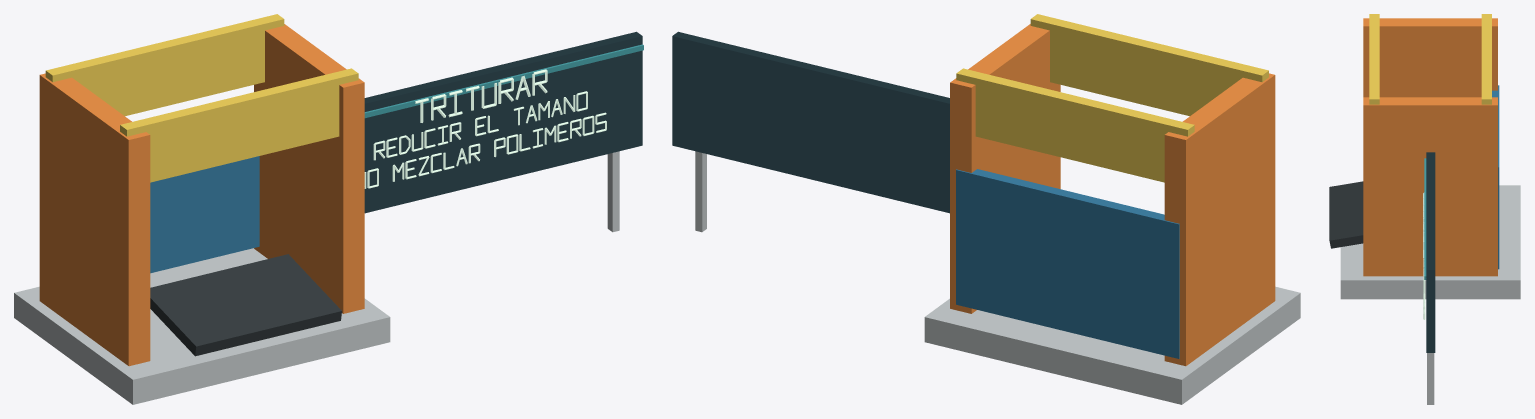
The model's file is CYCLE-015.glb.
3 views of the same model, side by side, from view 1: azimuth 30°, elevation 25°; view 2: azimuth 150°, elevation 25°; view 3: azimuth 270°, elevation 25° (orthographic). The views are drawn at different scales.
Parts seen in each view (by area): view 1: CYCLE-015; view 2: CYCLE-015; view 3: CYCLE-015.
Part boxes in pixels (x1,y1,x2,y2): CYCLE-015: (14,14,643,404); CYCLE-015: (672,14,1300,404); CYCLE-015: (1329,14,1520,404).
Bounding box in the file's own units: 6.6 × 2.88 × 2.55.
